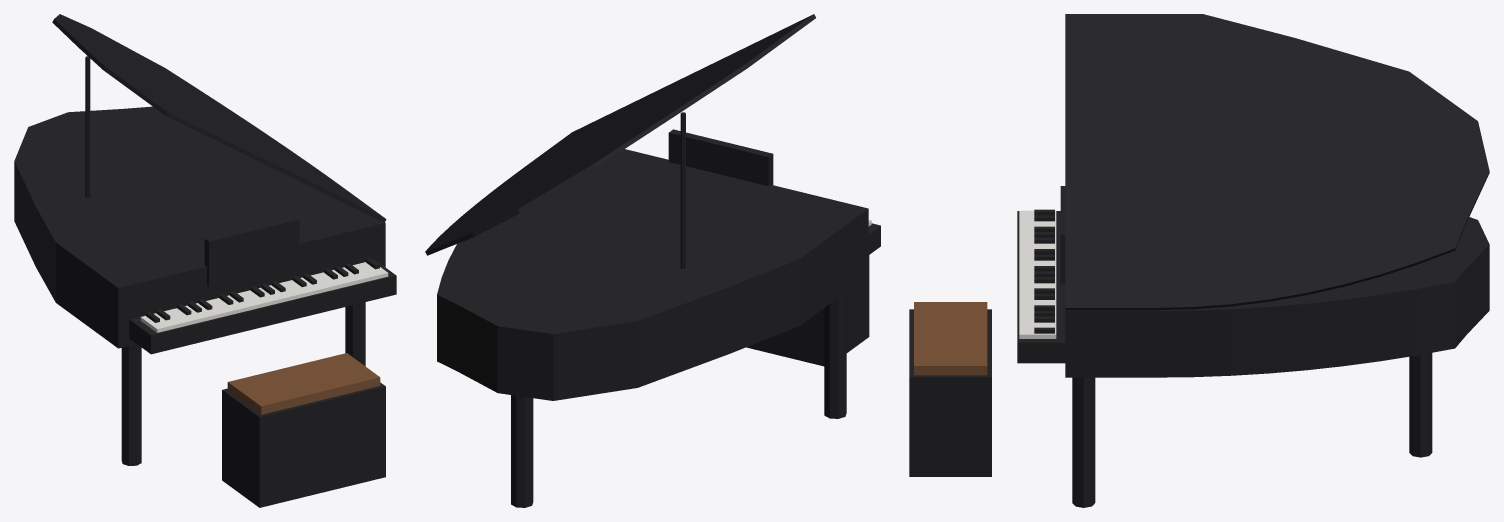
The model's file is grand_piano.glb.
3 views of the same model, side by side, from view 1: azimuth 30°, elevation 25°; view 2: azimuth 150°, elevation 25°; view 3: azimuth 270°, elevation 25° (orthographic). The views are drawn at different scales.
Visible parts, largest first — view 1: grand_piano; view 2: grand_piano; view 3: grand_piano.
Part boxes in pixels (x1=…): grand_piano: x1=14, y1=14, x2=396, y2=507; grand_piano: x1=425, y1=14, x2=880, y2=507; grand_piano: x1=909, y1=14, x2=1489, y2=507.
Size of the model in its own units: 1.49 by 1.85 by 2.53.
